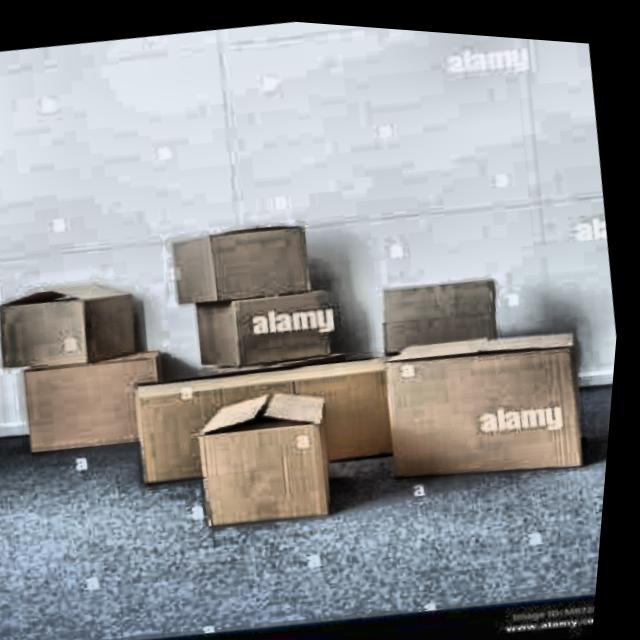Cardbox: (129, 325, 423, 504), (383, 309, 602, 486), (155, 371, 349, 538), (17, 336, 179, 478), (0, 262, 166, 386), (193, 270, 363, 380), (172, 212, 321, 313)
